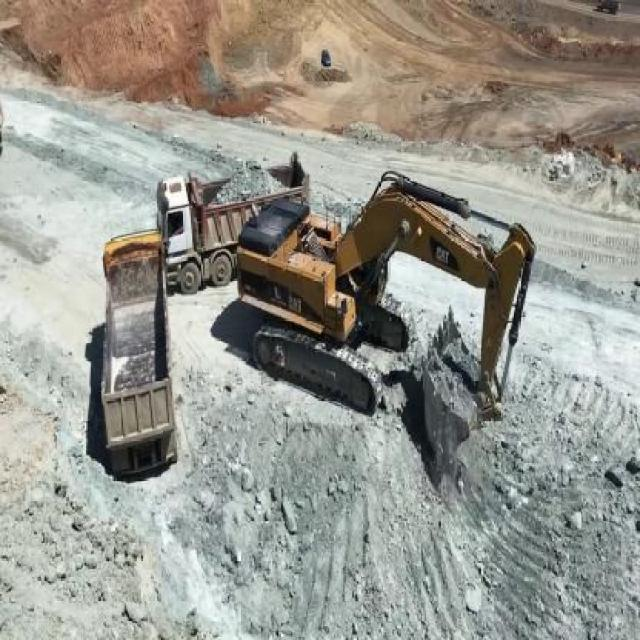dump_truck: (97, 223, 181, 480), (157, 175, 241, 293)
excavator: (233, 154, 541, 460)
